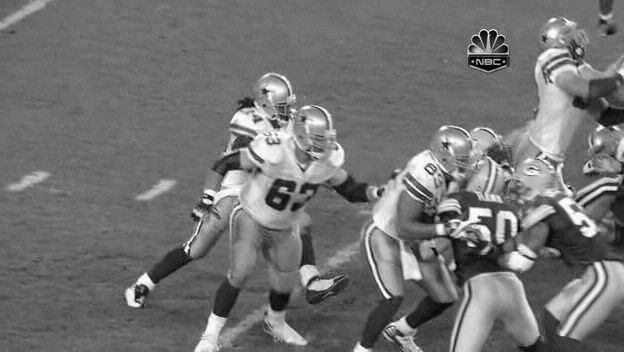person: (260, 74, 295, 119), (259, 74, 294, 119), (261, 74, 296, 119), (260, 73, 295, 118), (260, 75, 295, 120)
target_negative: (371, 29, 503, 178), (155, 47, 569, 90), (293, 211, 481, 299), (97, 180, 194, 272), (502, 120, 513, 128), (573, 347, 610, 349)
